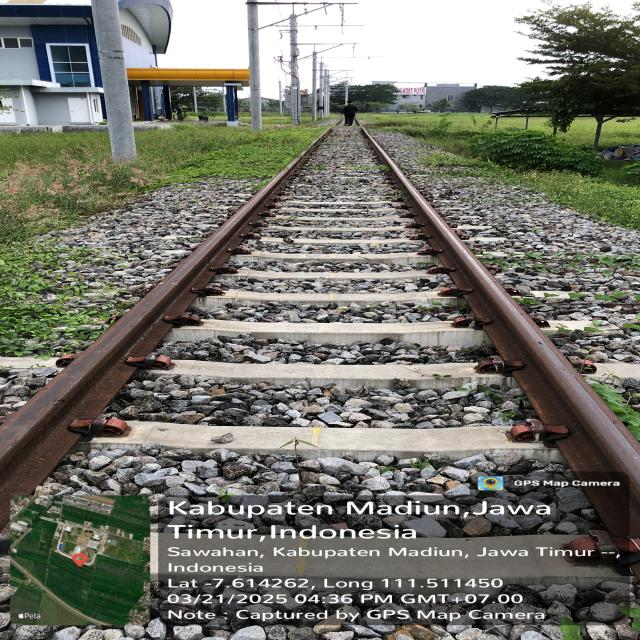rail-detection: (361, 128, 640, 537), (0, 149, 309, 514)
